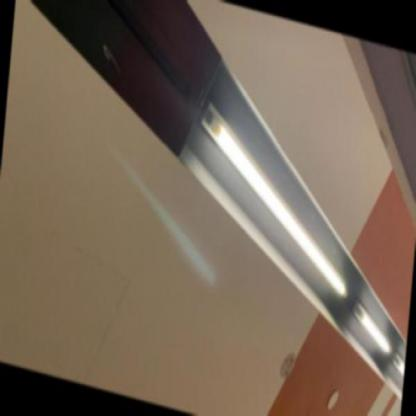light_on: (178, 84, 363, 306), (350, 298, 395, 358), (392, 341, 406, 386)
